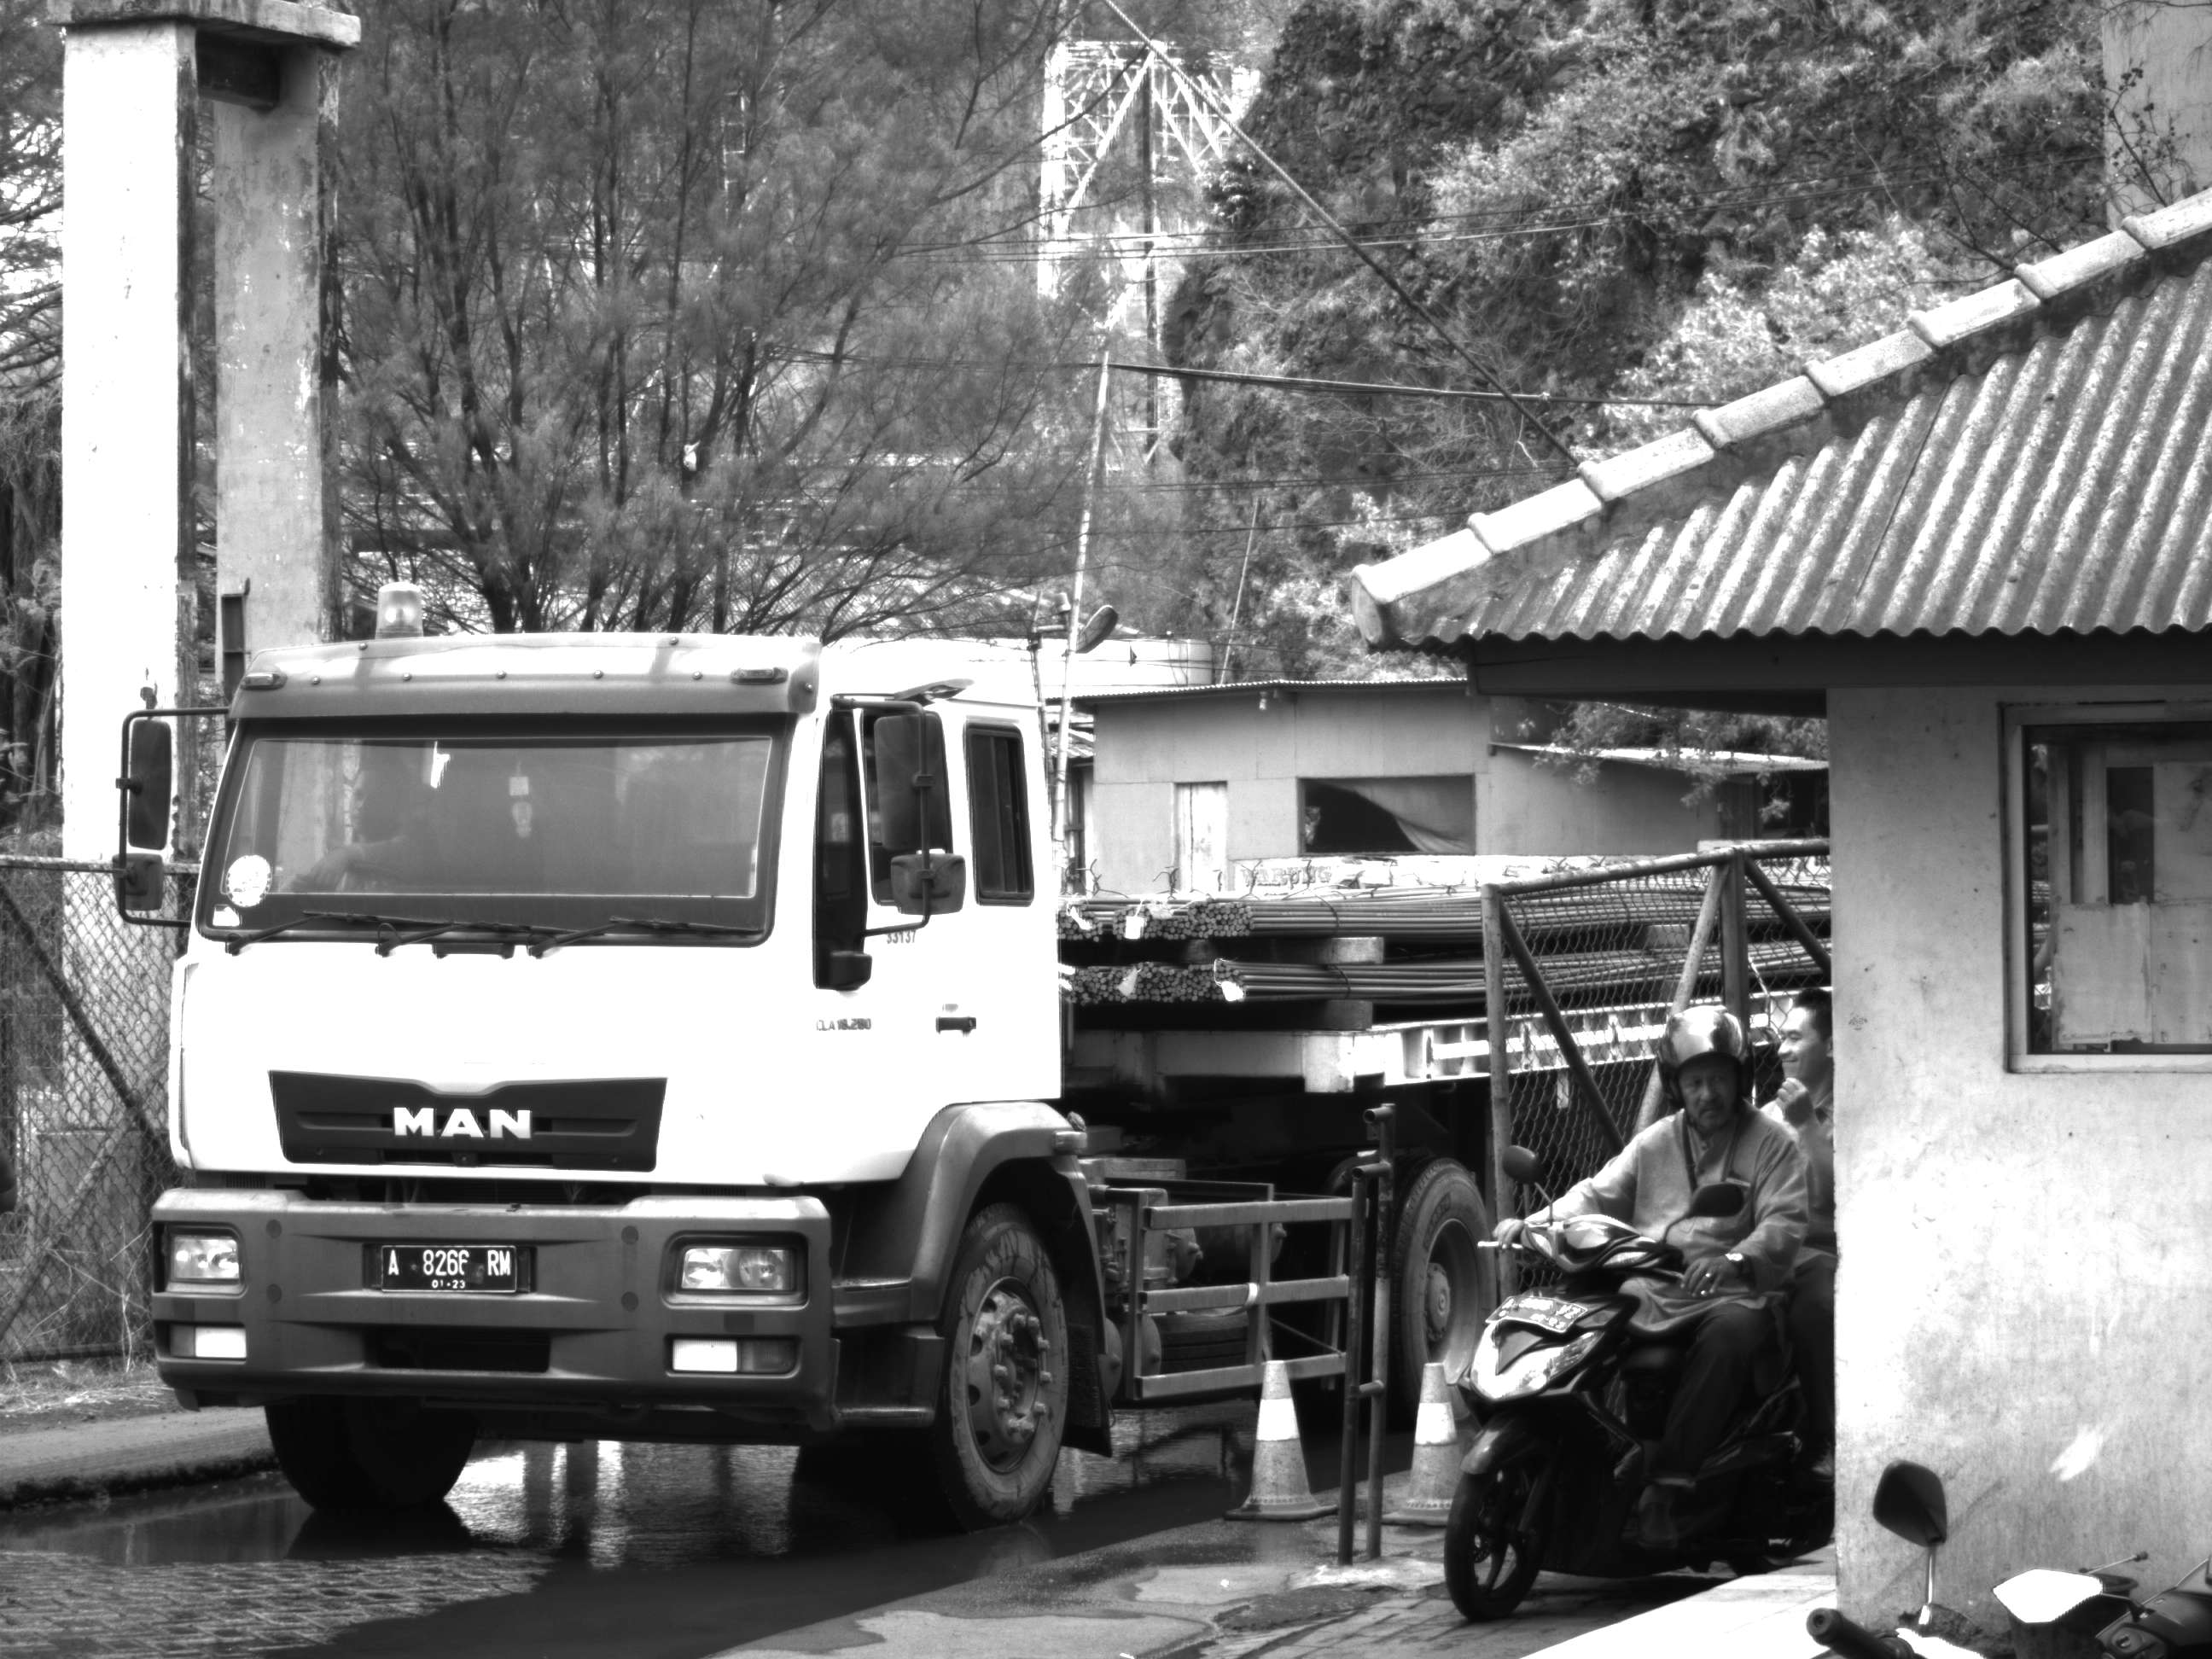day_motorcycle_front: (1434, 1136, 1751, 1652)
day_truck_front: (105, 633, 1111, 1533)
plate: (375, 1241, 530, 1301)
